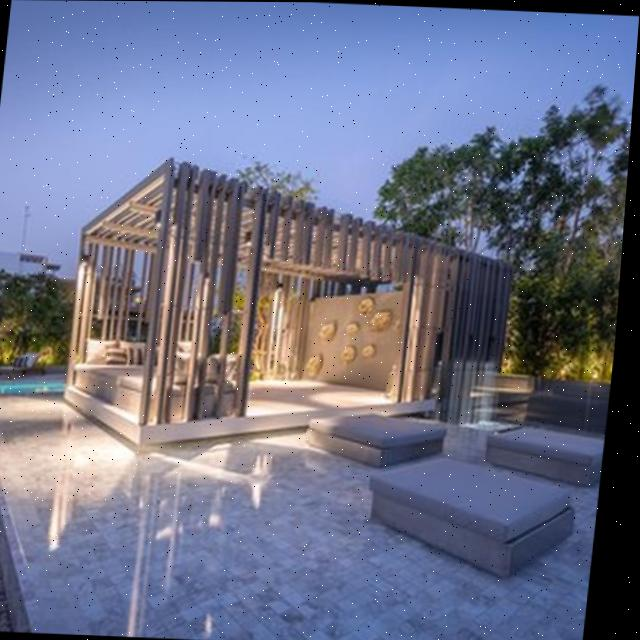building: (55, 154, 524, 465)
